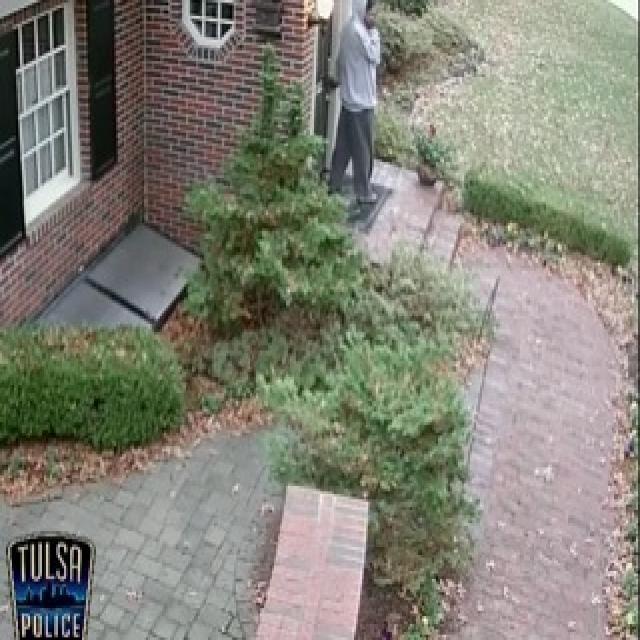thief: (318, 0, 387, 197)
